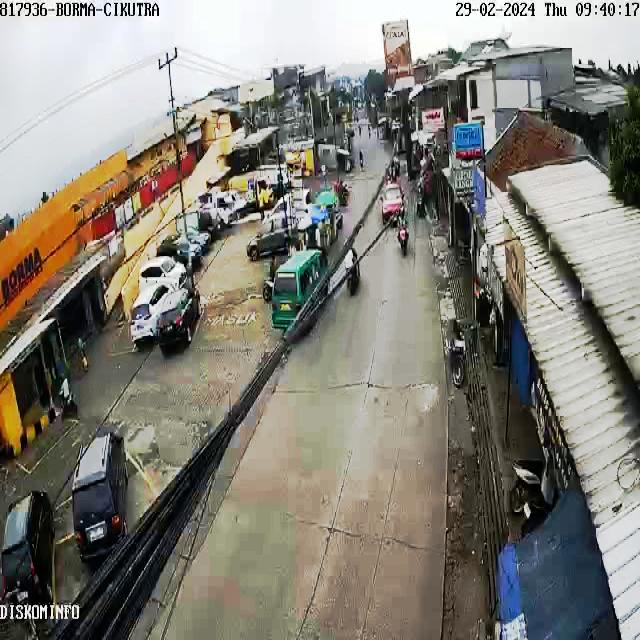Bike: (342, 241, 362, 299), (396, 208, 409, 256), (414, 179, 428, 219)
Car: (266, 242, 328, 345), (130, 250, 190, 353), (381, 175, 404, 226)
